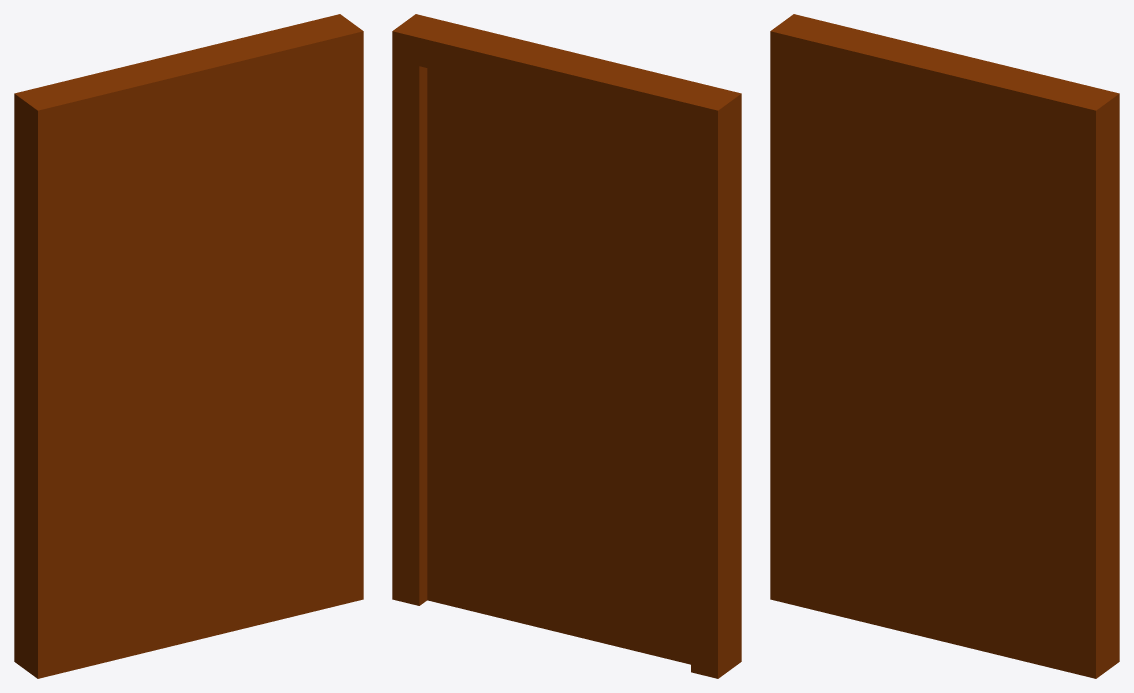
Rendered from PlainDoor.fbx.
3 renders of one model, left to right at view 1: azimuth 30°, elevation 25°; view 2: azimuth 150°, elevation 25°; view 3: azimuth 330°, elevation 25°, orthographic.
Visible parts, largest first — view 1: PlainDoor; view 2: PlainDoor; view 3: PlainDoor.
Part boxes in pixels (x1=…): PlainDoor: x1=14, y1=14, x2=363, y2=678; PlainDoor: x1=392, y1=14, x2=741, y2=678; PlainDoor: x1=770, y1=14, x2=1119, y2=678.
Bounding box in the file's own units: 240 × 400 × 30.
